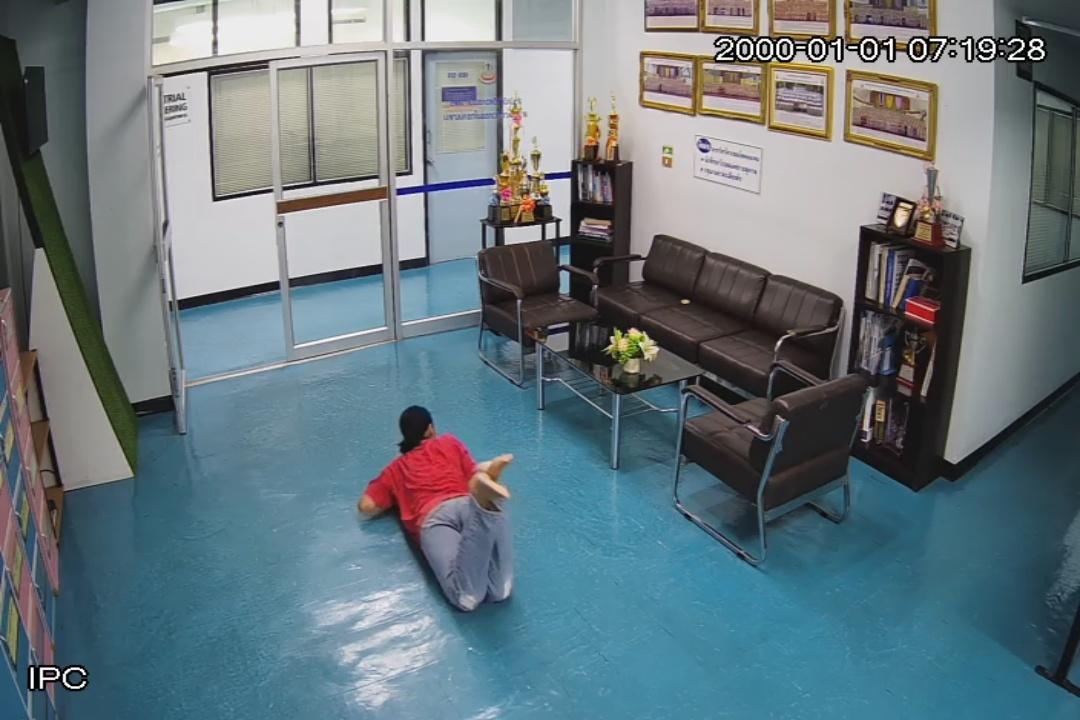fall: (358, 392, 528, 636)
